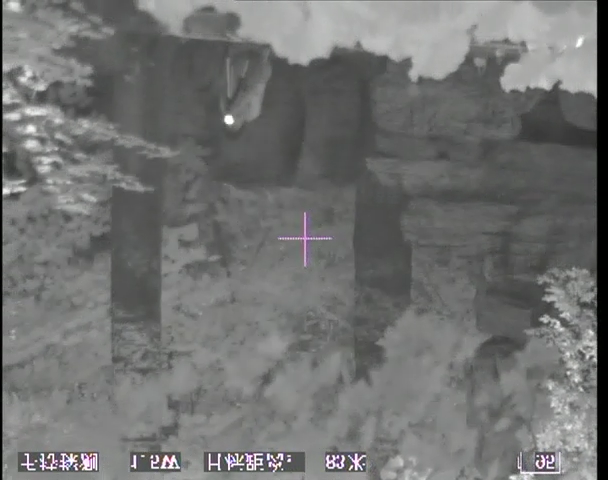my: (222, 113, 236, 128)
